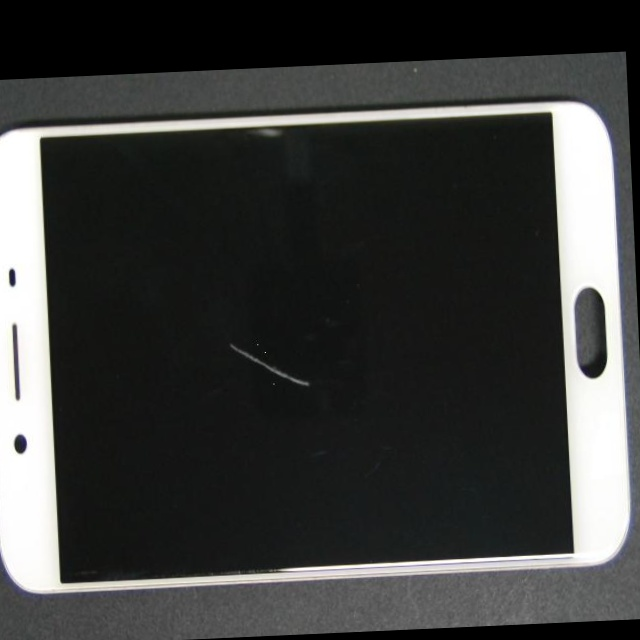scratch: (53, 182, 393, 527)
